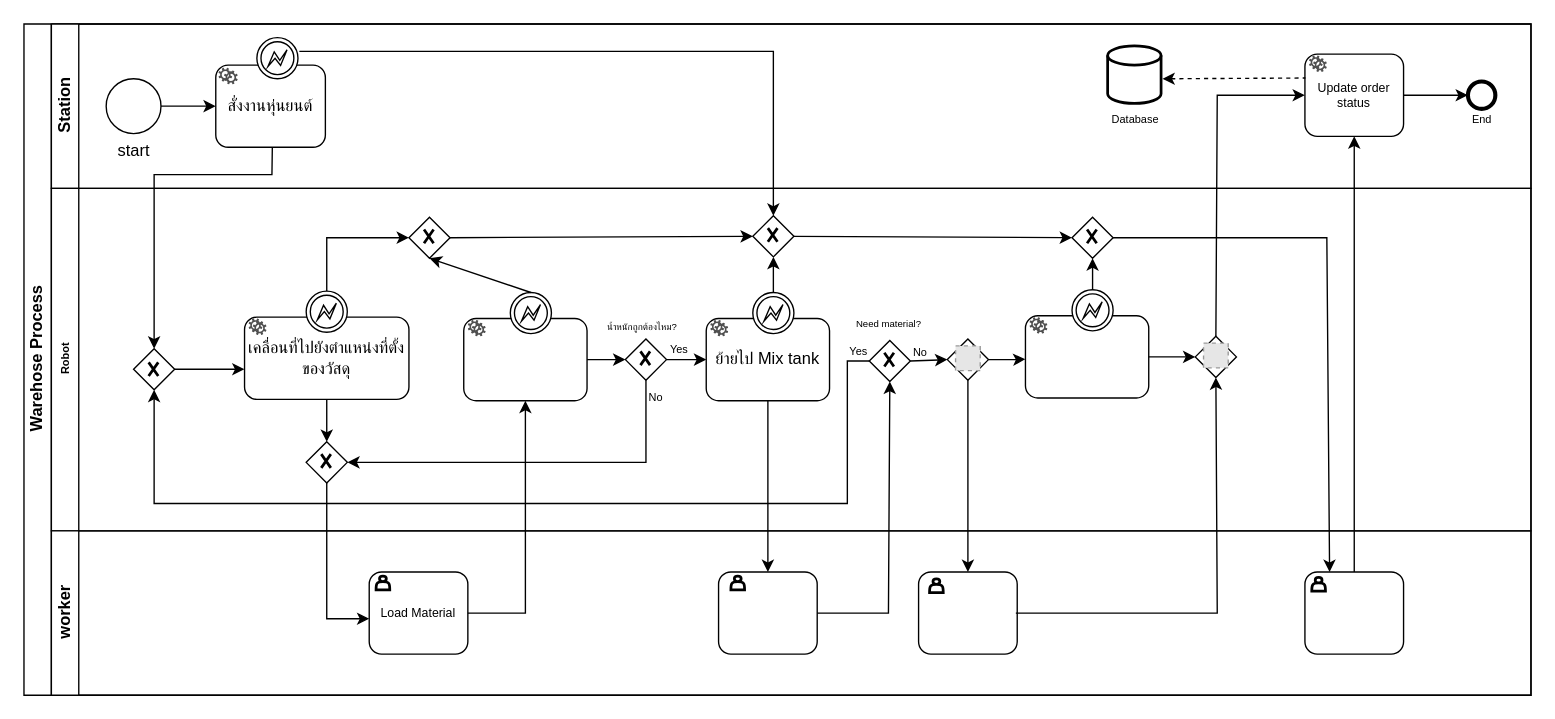
Some shapes in this 1555 by 719 pixel diagram are drawn without their labels. Grey dashed boxes stand in for pictures. Each missing label, with the centre of its shape:
Check Material Weight: point 524,359
Mix Tank: point 967,612
Unload Material: point 767,612
จัดการ Error: point 1354,612
เคลื่อนที่ไปยังตำแหน่งที่ตั้งต้นของระบบ: point 1086,356
